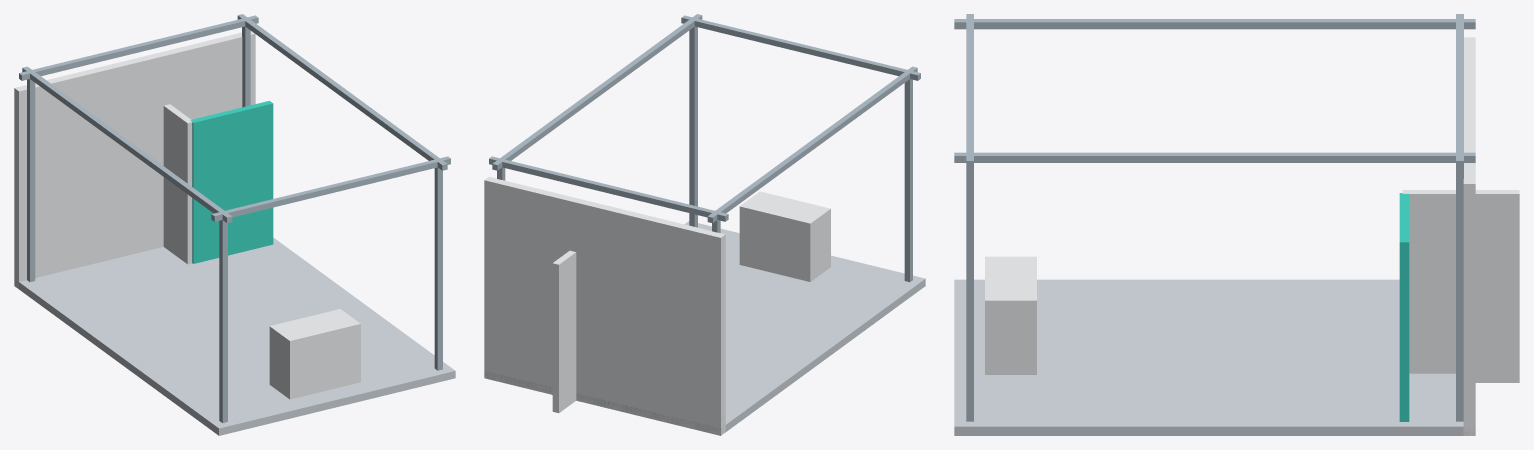
The picture shows the model from 3 angles, left to right: view 1: azimuth 30°, elevation 25°; view 2: azimuth 150°, elevation 25°; view 3: azimuth 270°, elevation 25°; orthographic projection. The views are drawn at different scales.
Parts seen in each view (by area): view 1: Exhibition Booth Concept; view 2: Exhibition Booth Concept; view 3: Exhibition Booth Concept.
Boxes of the visible parts, x1,y1,x2,y2 form: Exhibition Booth Concept: [14, 14, 455, 435]; Exhibition Booth Concept: [484, 14, 925, 435]; Exhibition Booth Concept: [954, 14, 1519, 435].
Bounding box in the file's own units: 4 × 3.49 × 6.51.
